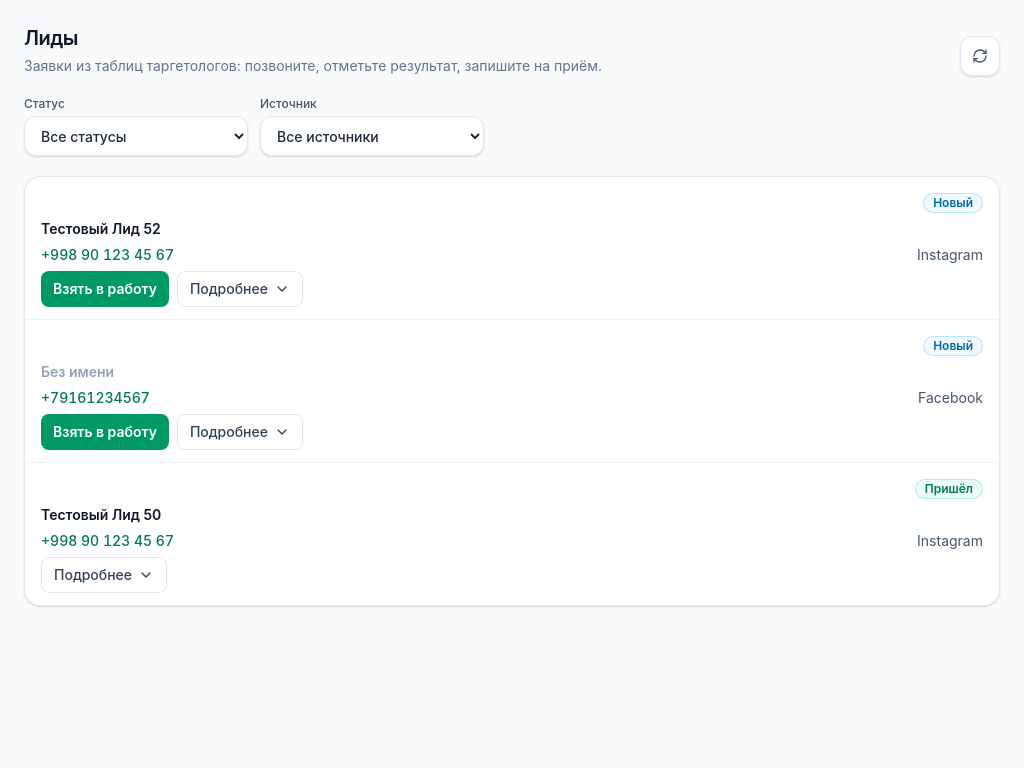
staff leads page › says that nothing matches the filters instead of «Лидов пока нет»
The width and height of the screenshot is (1024, 768).
Select "Отказ" in the dropdown labelled "Статус" at (136, 136), box left=24, top=116, right=248, bottom=156
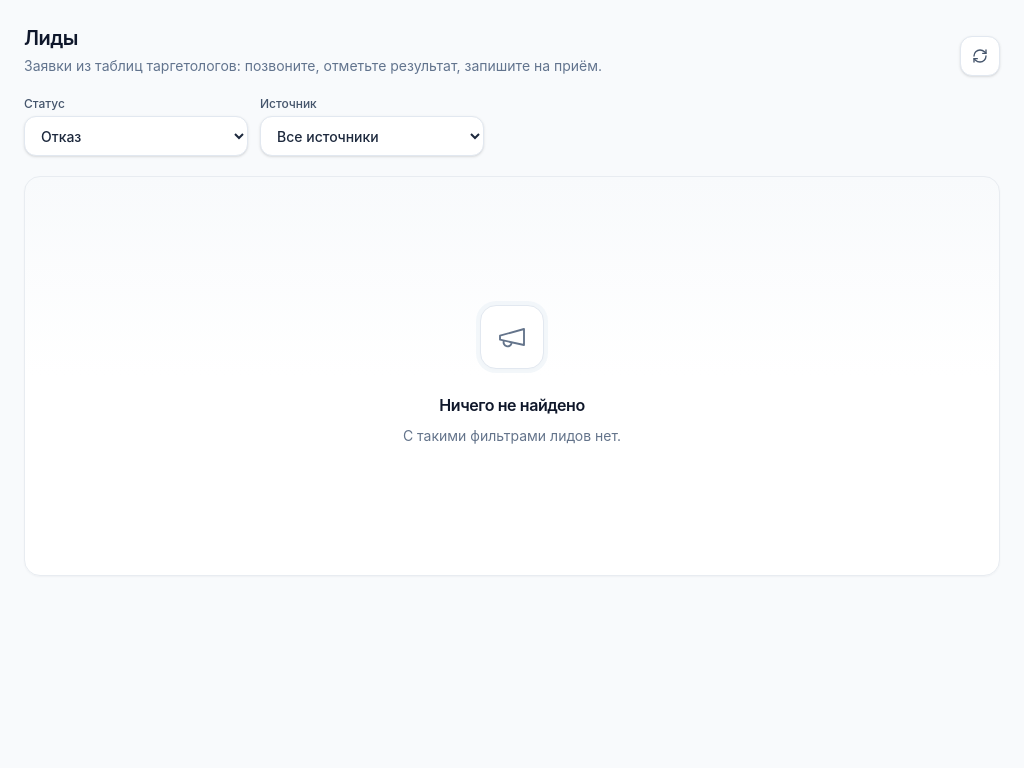
Now the text "Ничего не найдено" is shown, box left=439, top=393, right=585, bottom=417
